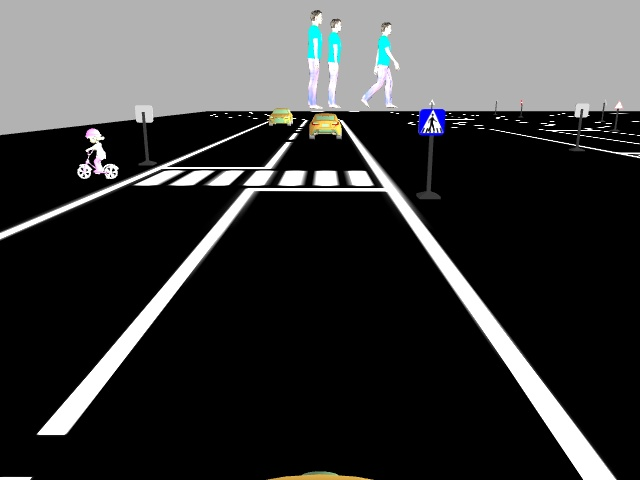Crosswalk: (419, 109, 446, 136)
Pedestrian: (75, 127, 120, 180)
